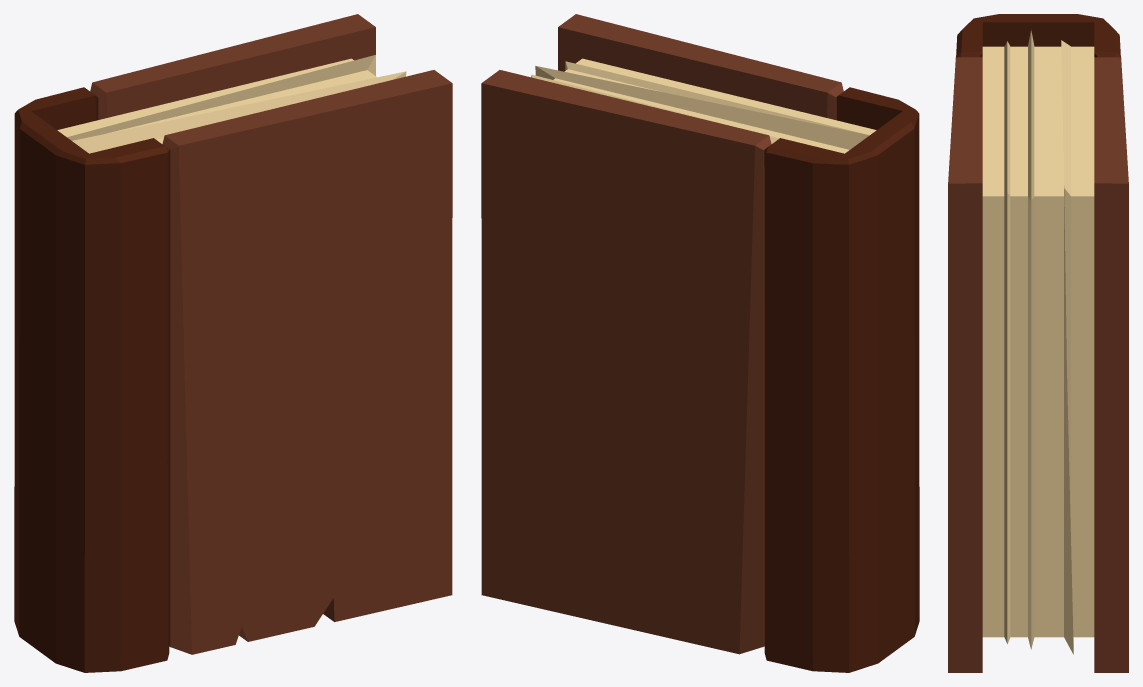
Rendered from SM_Book_B.fbx.
3 renders of one model, left to right at view 1: azimuth 30°, elevation 25°; view 2: azimuth 150°, elevation 25°; view 3: azimuth 270°, elevation 25°, orthographic. The views are drawn at different scales.
Parts seen in each view (by area): view 1: Cube.052; view 2: Cube.052; view 3: Cube.052.
Boxes of the visible parts, x1,y1,x2,y2 form: Cube.052: (14, 14, 452, 672); Cube.052: (481, 14, 919, 672); Cube.052: (948, 14, 1128, 672).
Size of the model in its own units: 43.45 by 57.86 by 19.36.
